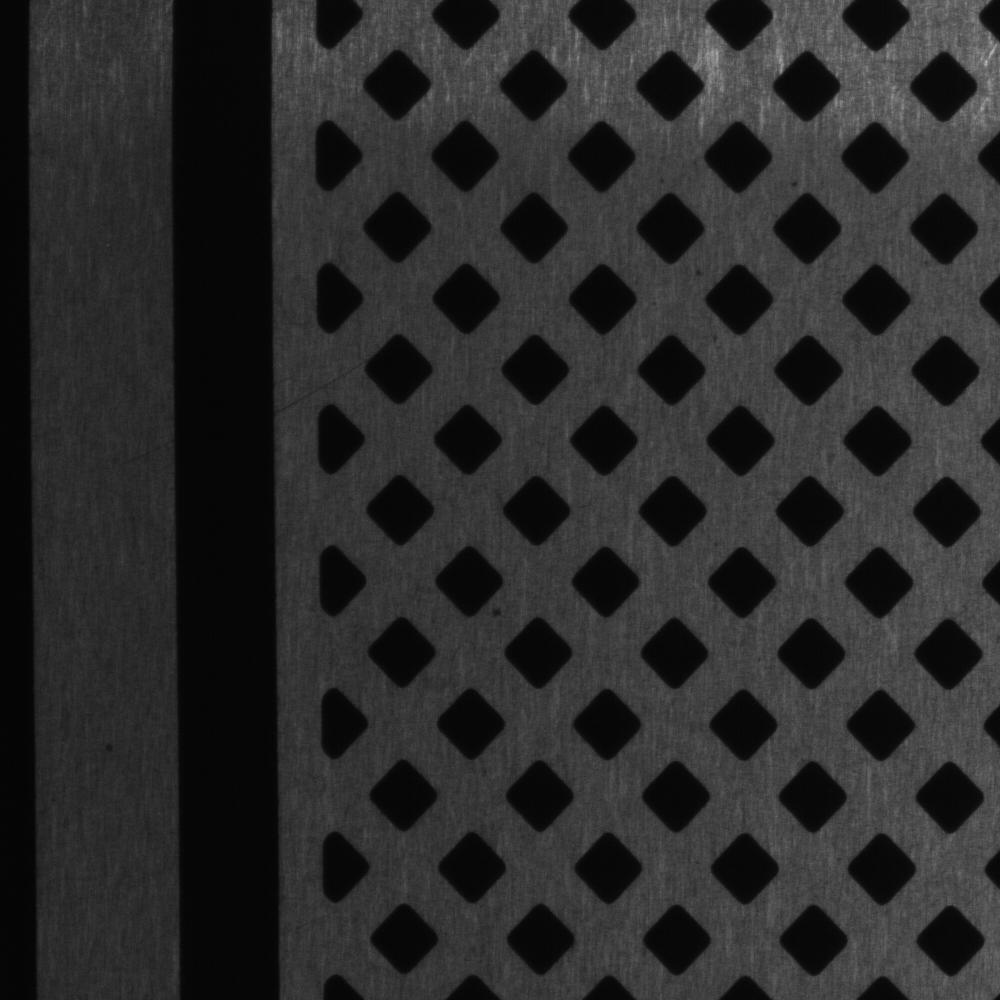Scar: (275, 350, 390, 421), (114, 436, 174, 475)
